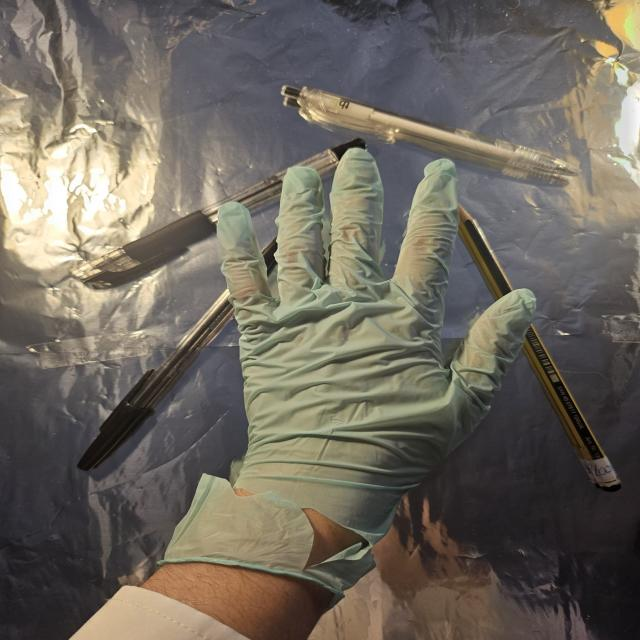gloves_damaged: (151, 148, 542, 593)
